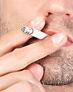smoke: (20, 26, 50, 40)
